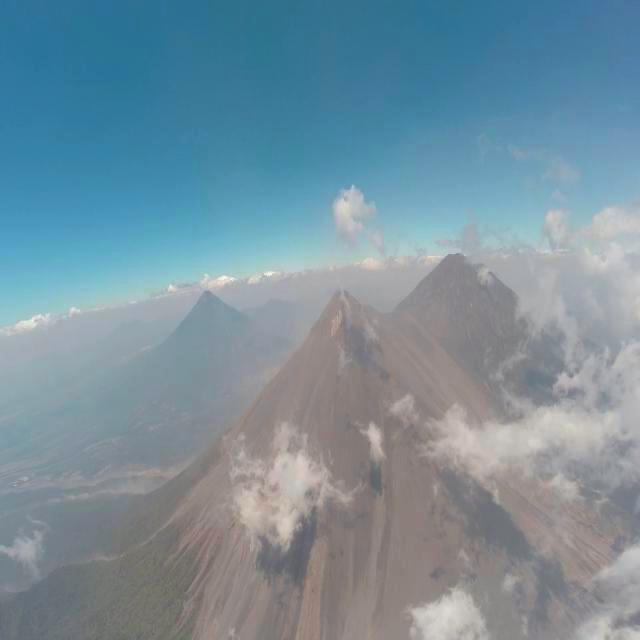Summit: (312, 284, 378, 340)
